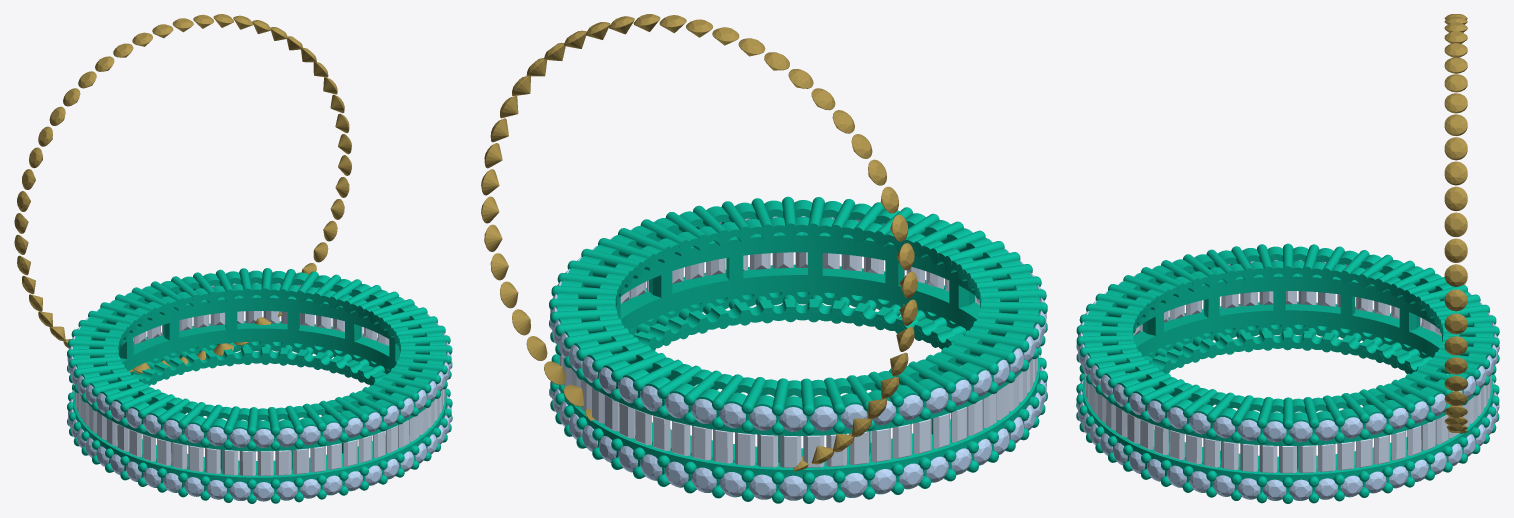
The picture shows the model from 3 angles, left to right: view 1: azimuth 30°, elevation 25°; view 2: azimuth 150°, elevation 25°; view 3: azimuth 270°, elevation 25°; orthographic projection. The views are drawn at different scales.
Visible parts, largest first — view 1: BAGUETTE SIZE- O(base).3dm; view 2: BAGUETTE SIZE- O(base).3dm, Diamond_Baguette Straight (×7); view 3: BAGUETTE SIZE- O(base).3dm, Diamond_Baguette Straight (×9).
Boxes of the visible parts, x1=… form: BAGUETTE SIZE- O(base).3dm: x1=73, y1=295, x2=446, y2=483; BAGUETTE SIZE- O(base).3dm: x1=557, y1=232, x2=1039, y2=478; Diamond_Baguette Straight (×7): x1=692, y1=424, x2=911, y2=467; BAGUETTE SIZE- O(base).3dm: x1=1082, y1=273, x2=1493, y2=482; Diamond_Baguette Straight (×9): x1=1203, y1=438, x2=1372, y2=473.
Bounding box in the file's own units: 2.8 × 2.79 × 2.79.
